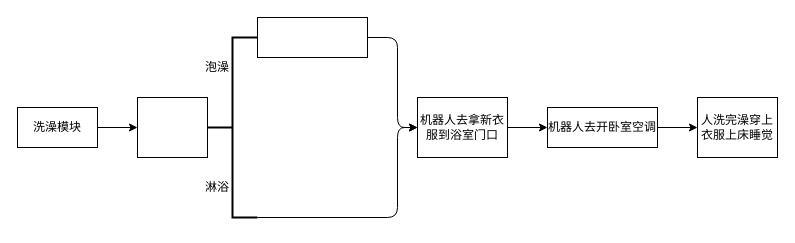
Image size: 795x243. Some labels were removed from this diagram. The centre of each missing label's shape, as x and y in pixels:
机器人到浴缸处放水: (312,37)
询问是要淋浴还是泡澡: (172,127)
